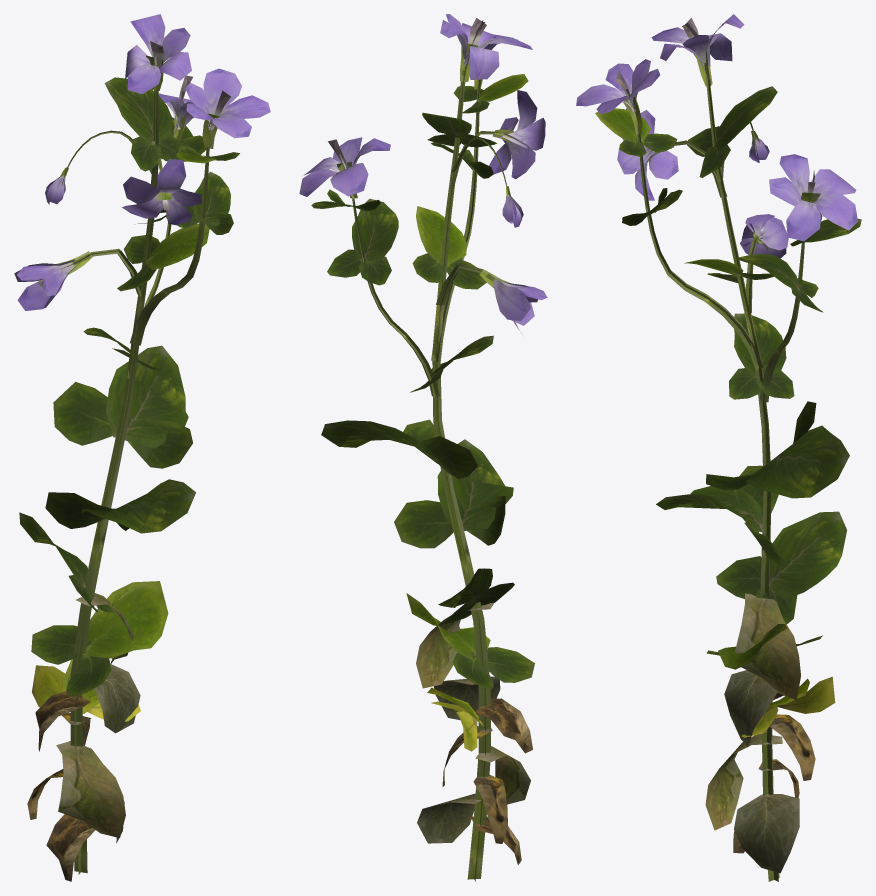
The model's file is Periwinkle_OG_normal_purple.glb.
3 renders of one model, left to right at view 1: azimuth 30°, elevation 25°; view 2: azimuth 150°, elevation 25°; view 3: azimuth 270°, elevation 25°, orthographic. The views are drawn at different scales.
Parts seen in each view (by area): view 1: _419c_Var3_LOD1; view 2: _419c_Var3_LOD1; view 3: _419c_Var3_LOD1.
Boxes of the visible parts, <box> form: _419c_Var3_LOD1: <box>14,14,270,881</box>; _419c_Var3_LOD1: <box>299,14,547,881</box>; _419c_Var3_LOD1: <box>576,14,861,881</box>.
Size of the model in its own units: 0.6129 by 2.19 by 0.6394.
Materials: 1 (1 with a texture image).
